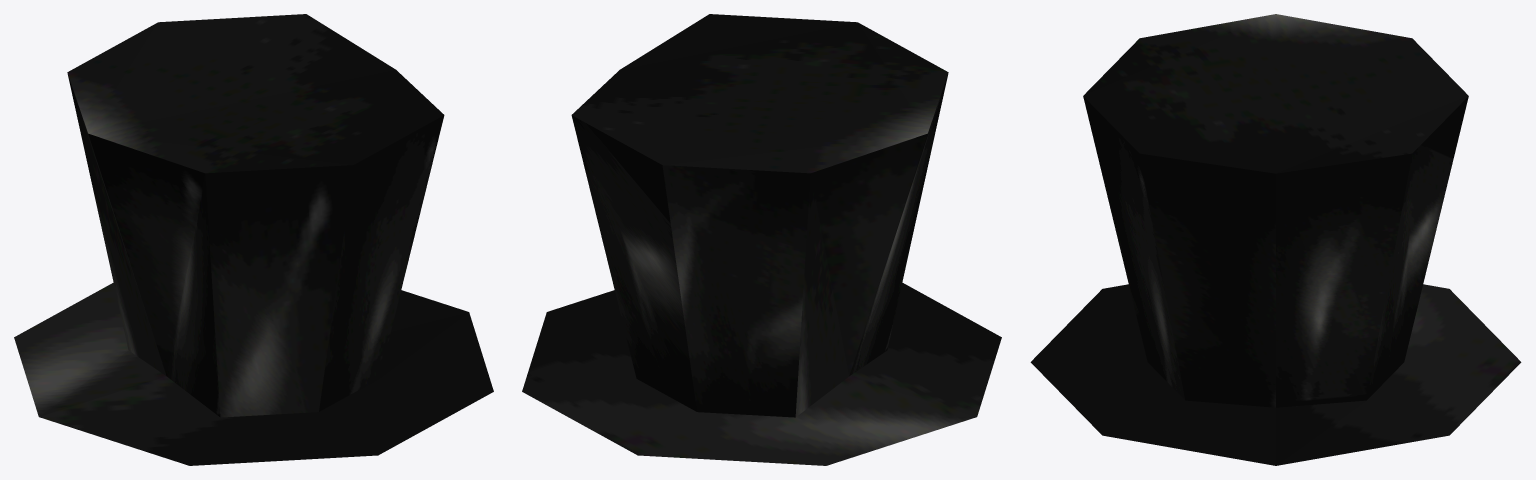
The model's file is BOSS_hat_3009.glb.
3 renders of one model, left to right at view 1: azimuth 30°, elevation 25°; view 2: azimuth 150°, elevation 25°; view 3: azimuth 270°, elevation 25°, orthographic.
Parts seen in each view (by area): view 1: BOSS_Hat; view 2: BOSS_Hat; view 3: BOSS_Hat.
Boxes of the visible parts, bbox=[...] form: BOSS_Hat: bbox=[14, 14, 493, 465]; BOSS_Hat: bbox=[522, 14, 1001, 465]; BOSS_Hat: bbox=[1030, 14, 1521, 465].
Bounding box in the file's own units: 0.065 × 0.0394 × 0.065.
1 material, 1 textured.
